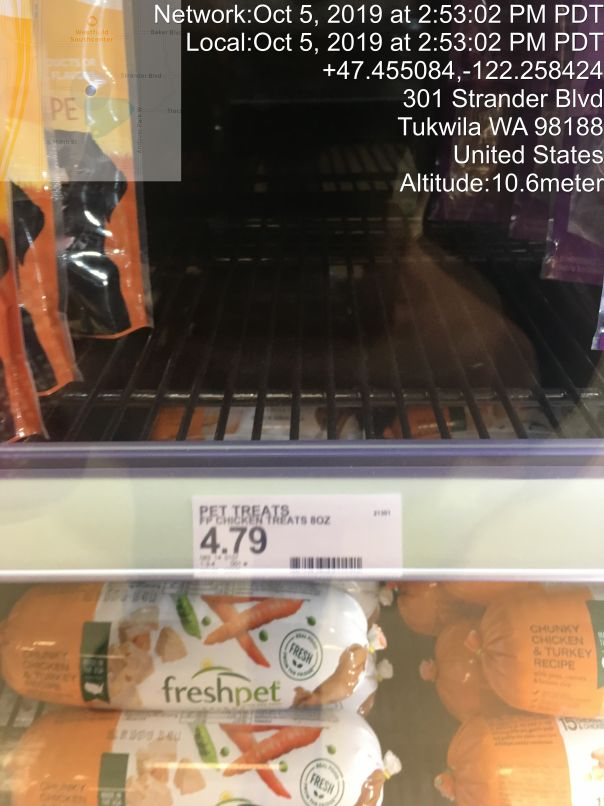Label: (189, 495, 412, 575)
Location: (390, 81, 602, 173)
Time: (150, 3, 604, 56)
Void: (143, 71, 487, 437)
